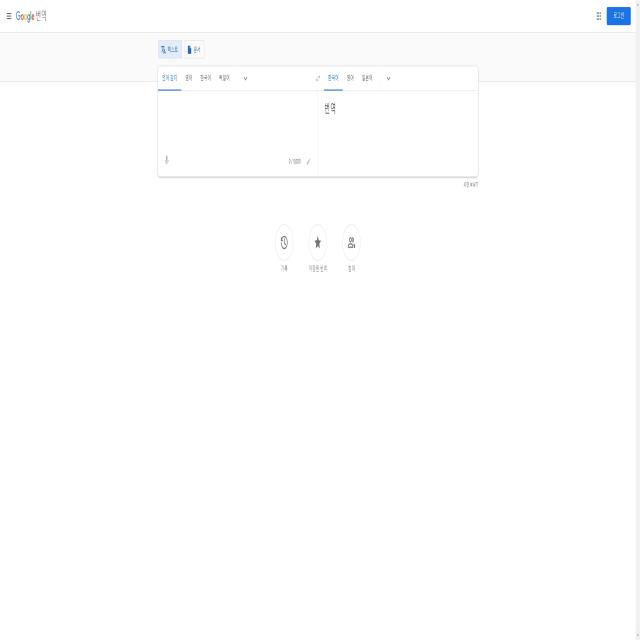menu-bar: (592, 6, 634, 33)
